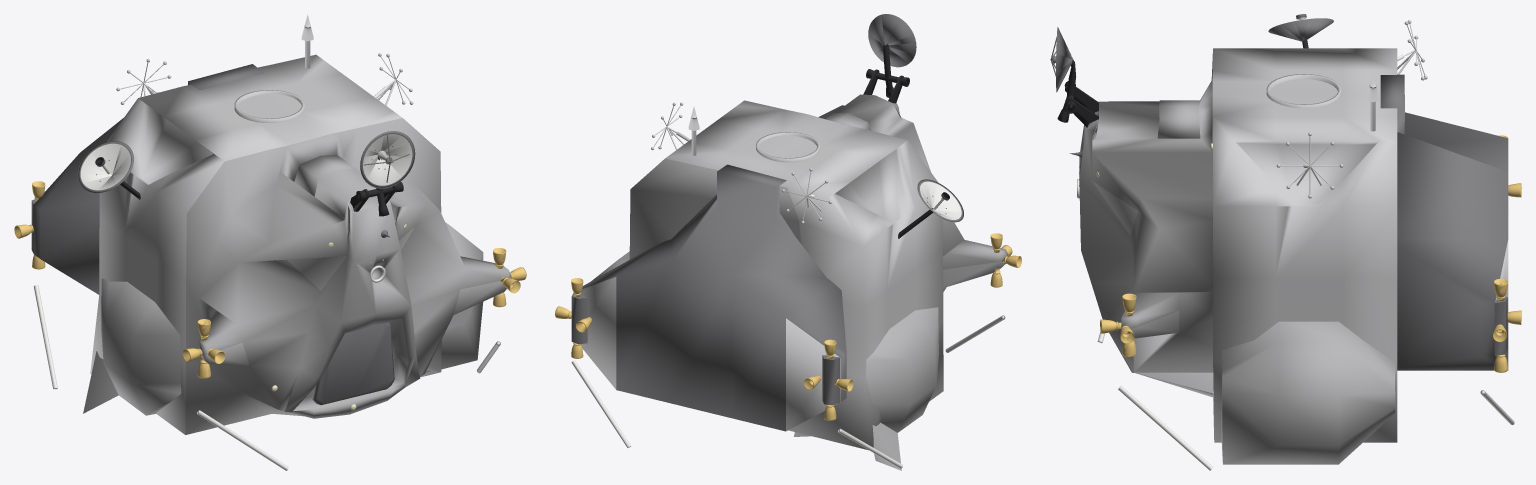
File: lm_ascent.glb
3 views of the same model, side by side, from view 1: azimuth 30°, elevation 25°; view 2: azimuth 150°, elevation 25°; view 3: azimuth 270°, elevation 25° (orthographic). The views are drawn at different scales.
Visible parts, largest first — view 1: ascent; view 2: ascent; view 3: ascent.
Boxes of the visible parts, bbox=[...] form: ascent: bbox=[14, 14, 526, 470]; ascent: bbox=[555, 14, 1021, 470]; ascent: bbox=[1050, 14, 1521, 470].
Bounding box in the file's own units: 4.64 × 4.01 × 4.57.
